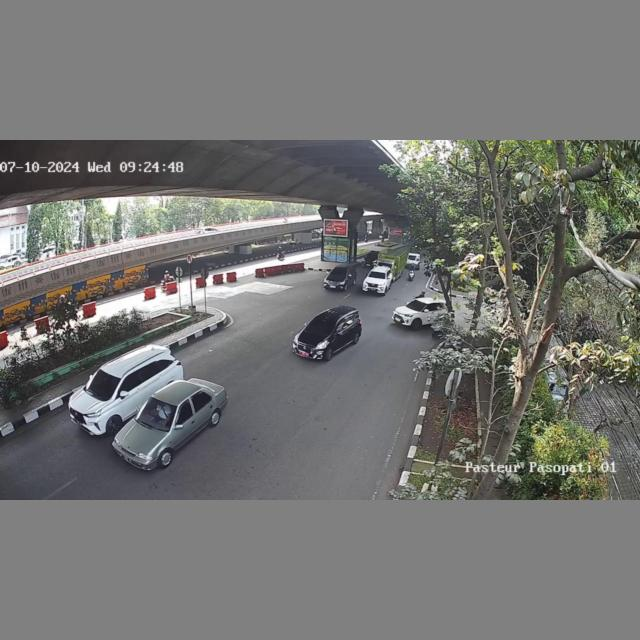windshield: (137, 398, 176, 430), (84, 369, 122, 395), (304, 319, 333, 338), (407, 299, 427, 312), (366, 272, 386, 281)
